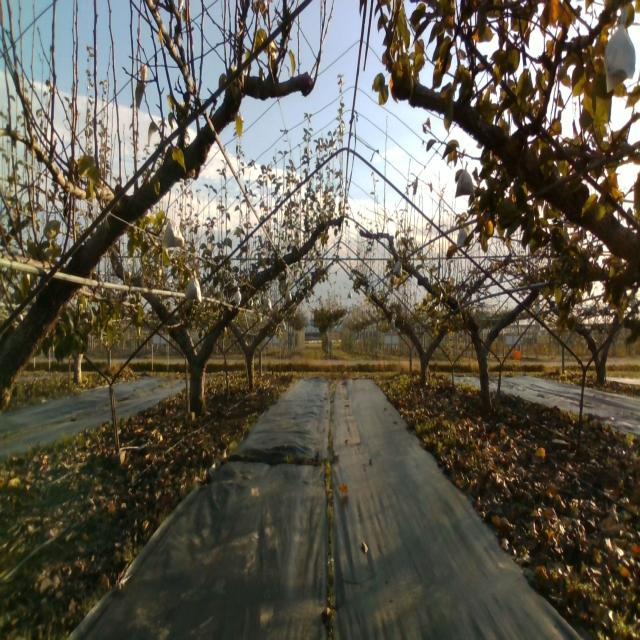pearbags: (604, 7, 636, 95), (162, 216, 185, 248), (454, 162, 475, 197), (183, 270, 202, 302), (457, 228, 468, 249)
